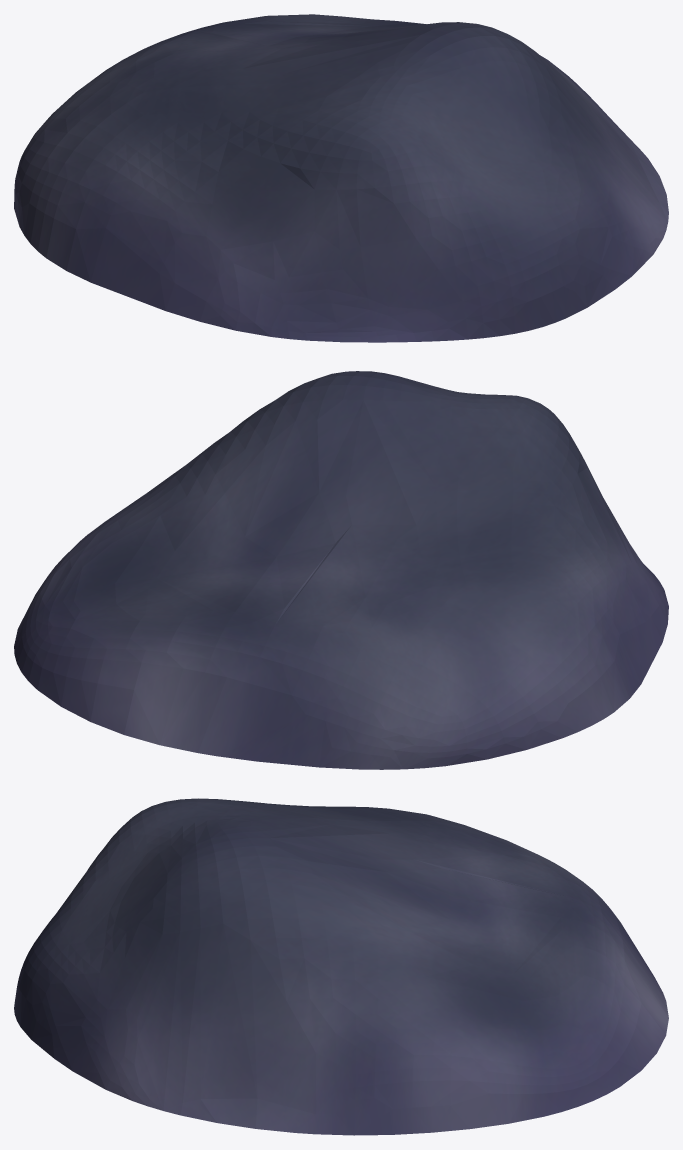
File: PileOfRocks.fbx
3 views of the same model, one above another, from view 1: azimuth 30°, elevation 25°; view 2: azimuth 150°, elevation 25°; view 3: azimuth 270°, elevation 25° (orthographic). The views are drawn at different scales.
Visible parts, largest first — view 1: Plane; view 2: Plane; view 3: Plane.
Part boxes in pixels (x1=…): Plane: x1=14, y1=14, x2=668, y2=342; Plane: x1=14, y1=371, x2=668, y2=769; Plane: x1=14, y1=798, x2=668, y2=1135.
Bounding box in the file's own units: 167 × 56.2 × 178.
1 material, 1 textured.
